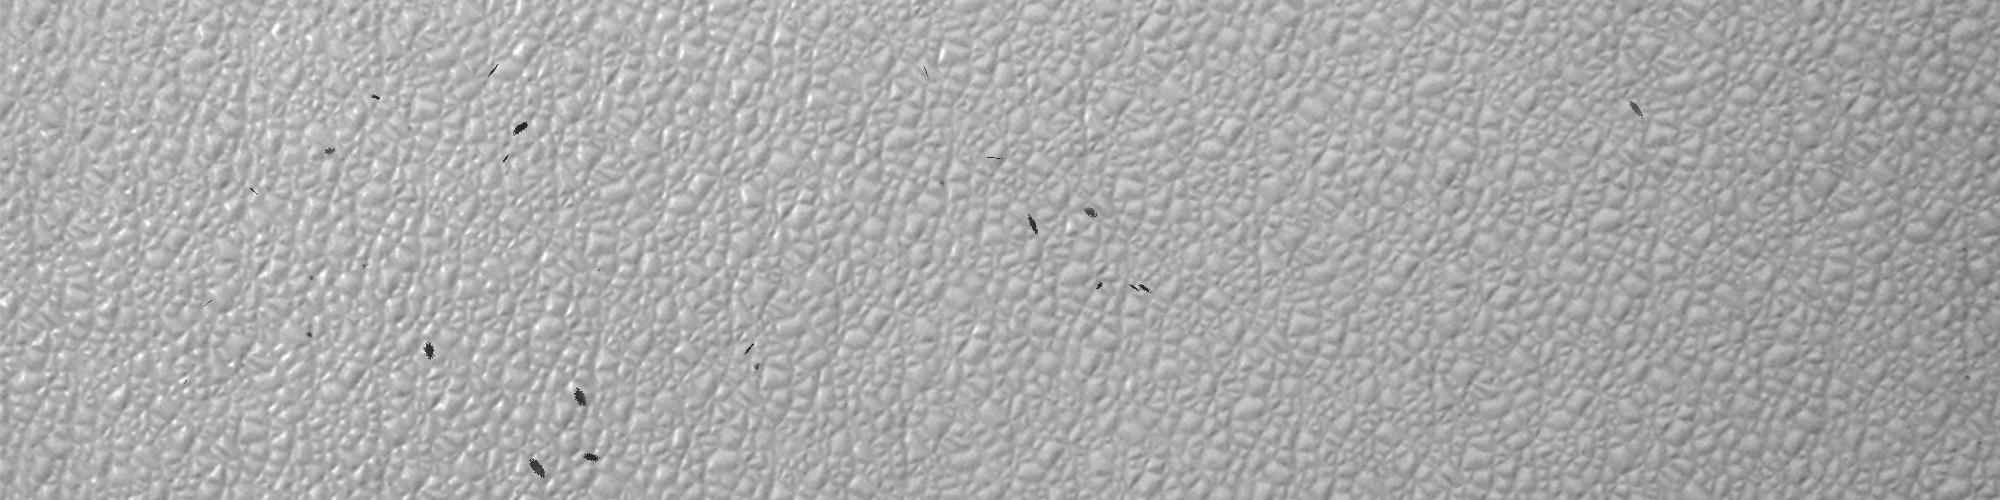Decomposed: (506, 111, 534, 144), (745, 344, 765, 378), (569, 384, 593, 411), (495, 147, 517, 176), (369, 78, 389, 108), (416, 338, 440, 364), (316, 136, 338, 163), (483, 54, 501, 85), (1122, 284, 1159, 300), (523, 457, 543, 483), (1026, 207, 1048, 230), (585, 446, 605, 469), (1630, 94, 1649, 114), (353, 255, 371, 276), (1083, 205, 1102, 222), (1089, 272, 1106, 291)
